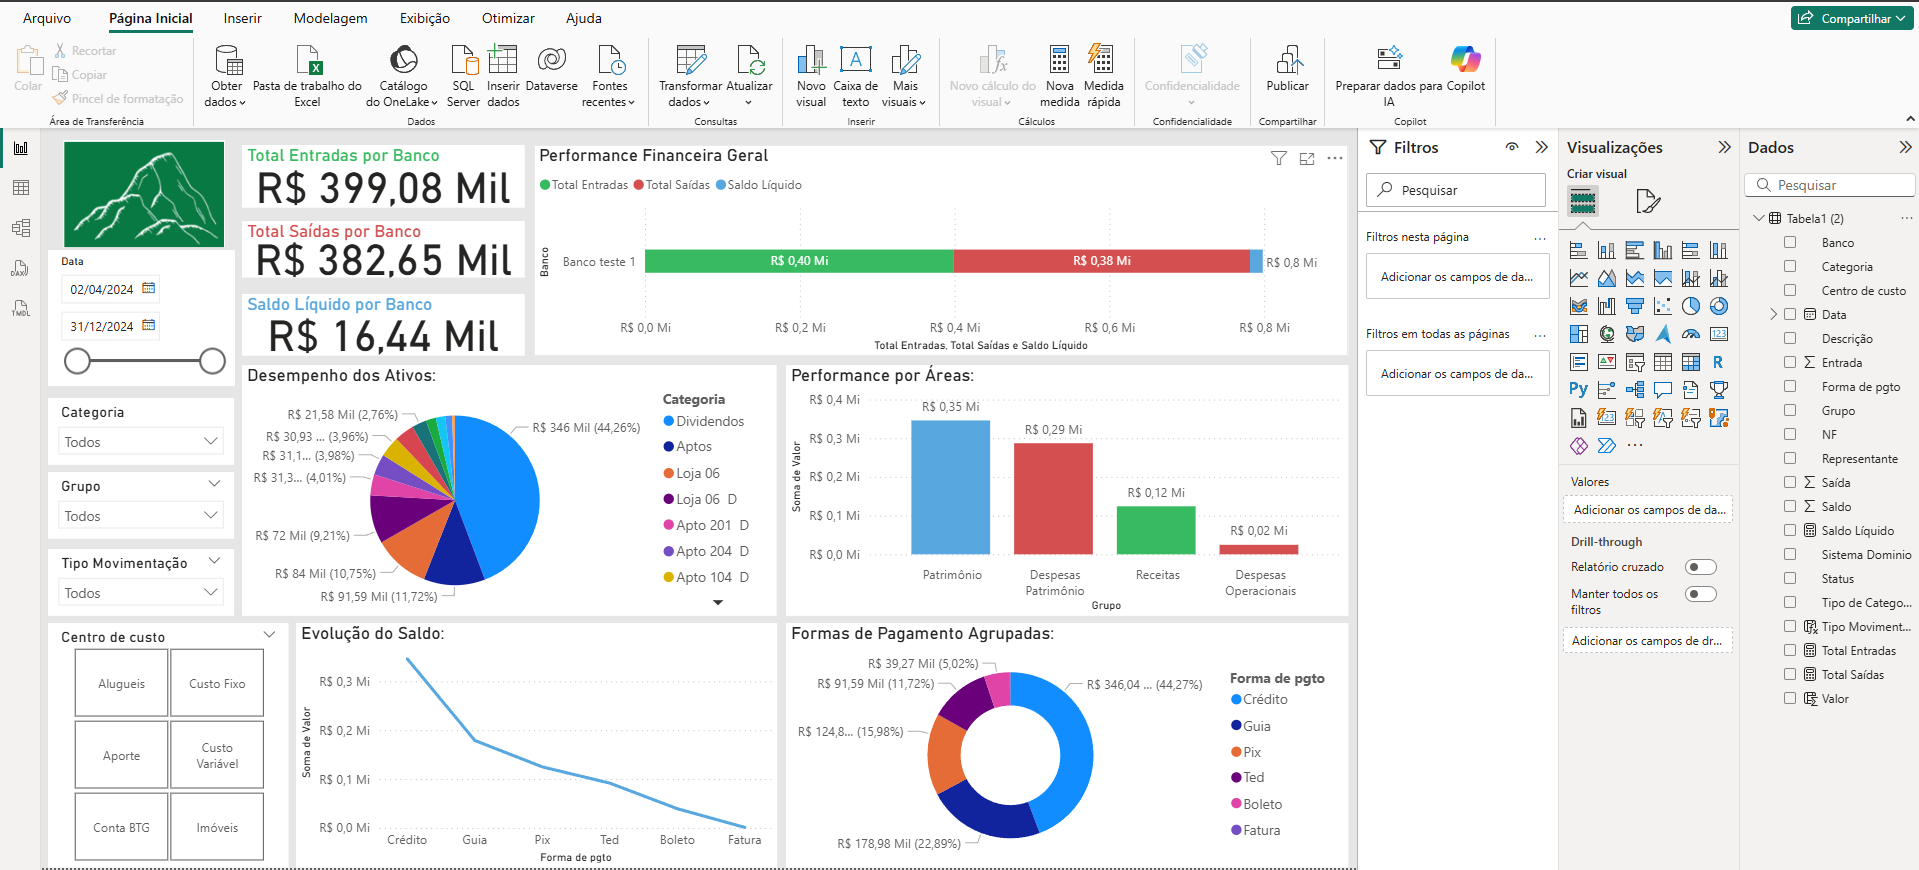

What the dashboard file says about the page in this screenshot:
{"tool":"powerbi","page":{"name":"Pisano","canvas":[1280,720],"ordinal":0},"visuals":[{"type":"image","box":[5.8,6.8,188.7,113.8],"z":0},{"type":"kpi","fields":{"Indicator":["Tabela1 (2).Total Entradas"],"TrendLine":["Tabela1 (2).Banco"]},"box":[195.5,16.5,275.3,61.3],"z":1000},{"type":"kpi","fields":{"Indicator":["Tabela1 (2).Total Saídas"],"TrendLine":["Tabela1 (2).Banco"]},"box":[195.5,90.5,275.3,55.4],"z":2000},{"type":"kpi","fields":{"Indicator":["Tabela1 (2).Saldo Líquido"],"TrendLine":["Tabela1 (2).Banco"]},"box":[195.5,161.5,275.3,60.3],"z":3000},{"type":"barChart","title":"Performance Financeira Geral","fields":{"Category":["Tabela1 (2).Banco"],"Y":["Tabela1 (2).Total Entradas","Tabela1 (2).Total Saídas","Tabela1 (2).Saldo Líquido"]},"box":[479.5,16.5,791.7,205.2],"z":4000},{"type":"columnChart","title":"Performance por Áreas:","fields":{"Category":["Tabela1 (2).Grupo"],"Y":["Sum(Tabela1 (2).Valor)"]},"box":[724.6,230.5,546.6,244.1],"z":5000},{"type":"slicer","fields":{"Values":["Tabela1 (2).Categoria"]},"box":[6.8,262.6,180.9,65.2],"z":6000},{"type":"slicer","fields":{"Values":["Tabela1 (2).Centro de custo"]},"box":[6.8,481.5,234.4,238.3],"z":7000},{"type":"slicer","fields":{"Values":["Tabela1 (2).Data"]},"box":[6.8,118.7,180.9,132.3],"z":8000},{"type":"pieChart","title":"Desempenho dos Ativos:","fields":{"Category":["Tabela1 (2).Categoria"],"Y":["Sum(Tabela1 (2).Valor)"]},"box":[195.5,230.5,520.4,244.1],"z":9000},{"type":"slicer","fields":{"Values":["Tabela1 (2).Grupo"]},"box":[6.8,334.6,180.9,65.2],"z":10000},{"type":"donutChart","title":"Formas de Pagamento Agrupadas:","fields":{"Category":["Tabela1 (2).Forma de pgto"],"Y":["Sum(Tabela1 (2).Valor)"]},"box":[724.6,481.5,546.6,238.3],"z":11000},{"type":"lineChart","title":"Evolução do Saldo:","fields":{"Category":["Tabela1 (2).Forma de pgto"],"Y":["Sum(Tabela1 (2).Valor)"]},"box":[248,481.5,467.8,238.3],"z":12000},{"type":"slicer","fields":{"Values":["Tabela1 (2).Tipo Movimentação"]},"box":[6.8,409.5,180.9,65.2],"z":13000}]}

Visuals, with their boxes in screenshot pixels (x1, y1, x2, y2):
image: 62 0 287 124
kpi - Tabela1 (2).Total Entradas x Tabela1 (2).Banco: 288 0 616 73
kpi - Tabela1 (2).Total Saídas x Tabela1 (2).Banco: 288 88 616 154
kpi - Tabela1 (2).Saldo Líquido x Tabela1 (2).Banco: 288 172 616 244
"Performance Financeira Geral" barChart: 626 0 1569 244
"Performance por Áreas:" columnChart: 918 255 1569 545
slicer - Tabela1 (2).Categoria: 63 293 279 370
slicer - Tabela1 (2).Centro de custo: 63 553 342 837
slicer - Tabela1 (2).Data: 63 121 279 279
"Desempenho dos Ativos:" pieChart: 288 255 908 545
slicer - Tabela1 (2).Grupo: 63 379 279 456
"Formas de Pagamento Agrupadas:" donutChart: 918 553 1569 837
"Evolução do Saldo:" lineChart: 350 553 907 837
slicer - Tabela1 (2).Tipo Movimentação: 63 468 279 545
